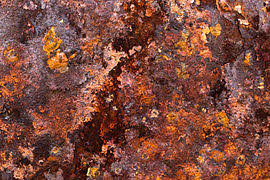rust: (1, 1, 270, 177)
